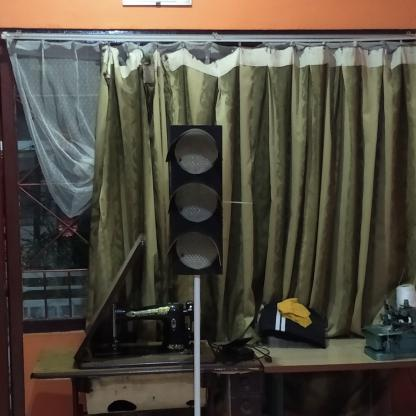green: (169, 125, 224, 272)
